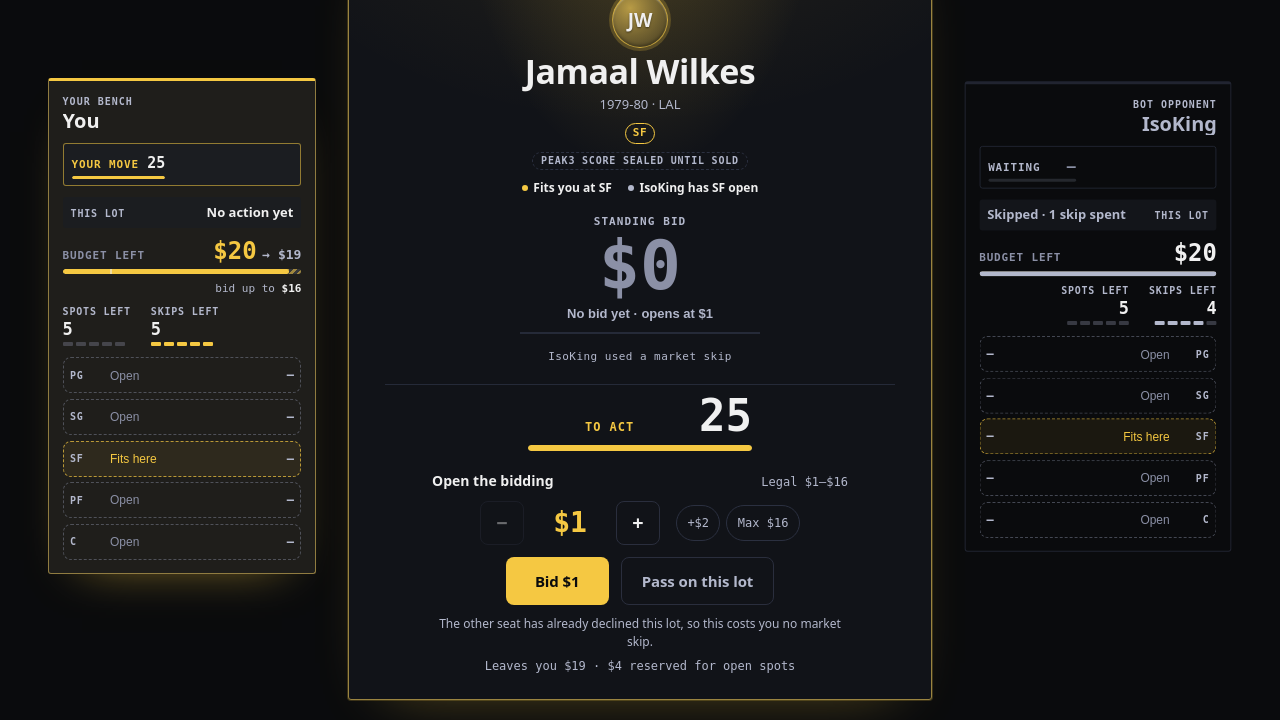
Test: submitting a bid › explains a rejection and shows the error beat, then keeps the board the server sent
The image size is (1280, 720).
(page scrolled)
Click the button with test id "td-submit-bid" at (557, 581), box [506,557,609,605]
(page scrolled)
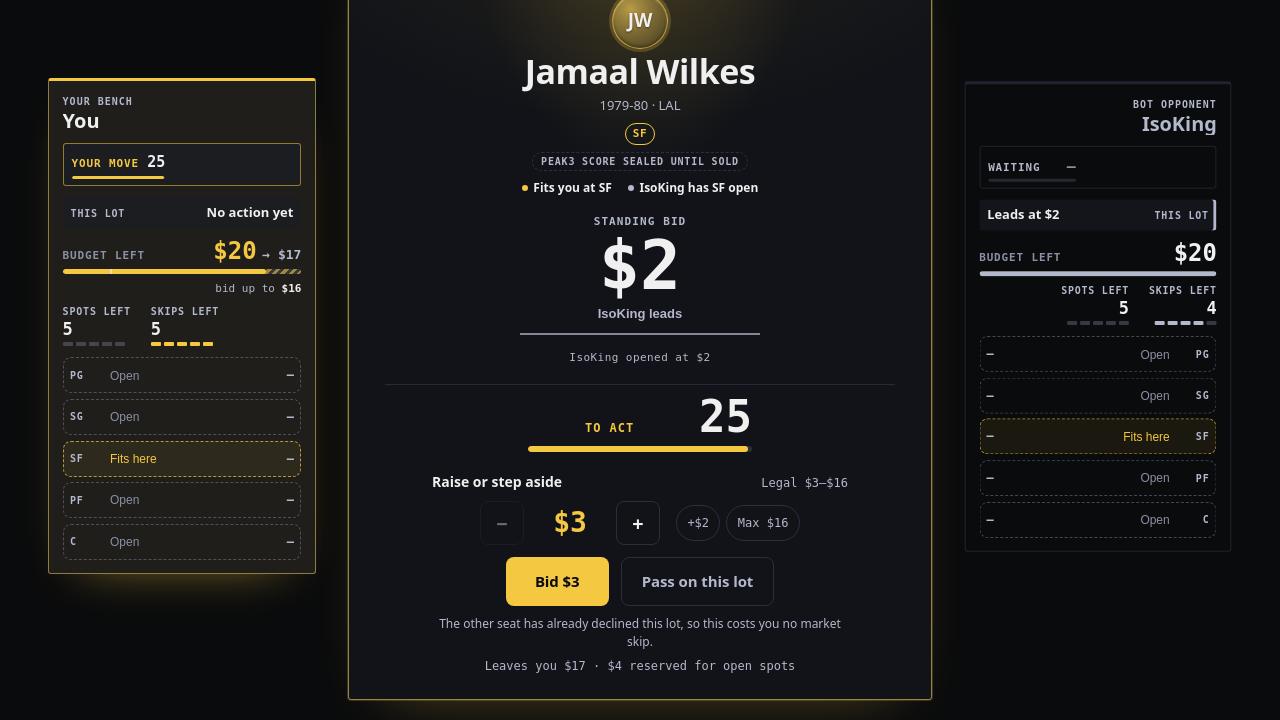
Result: the text with test id "td-standing-amount" reads "$2" at [599,226,681,305]
Result: the text with test id "td-bid-amount" reads "$3" at [553,506,587,539]
